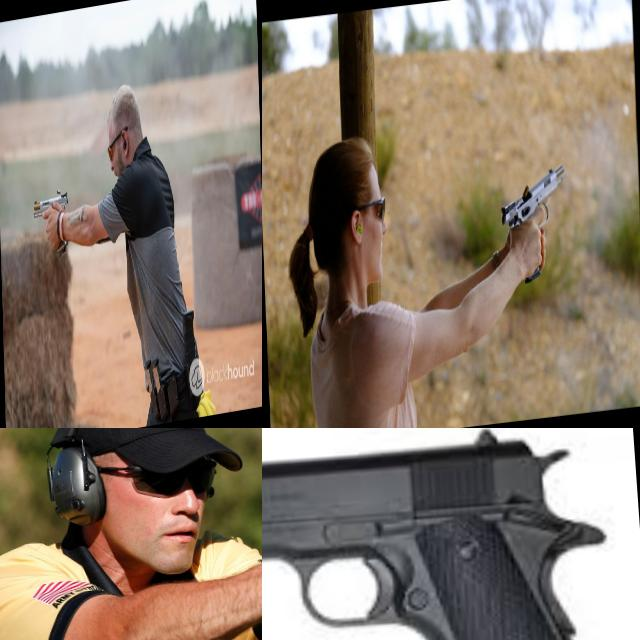handgun: (262, 428, 640, 640), (498, 162, 572, 288), (32, 185, 70, 262)
